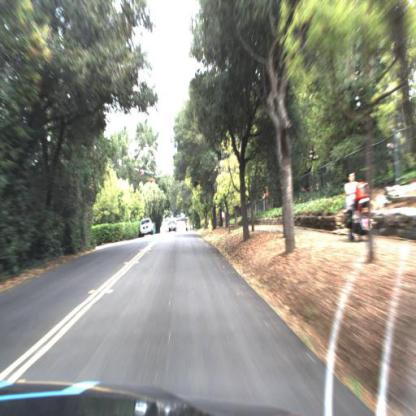car: (140, 217, 155, 238)
pedestrian: (343, 170, 376, 247)
